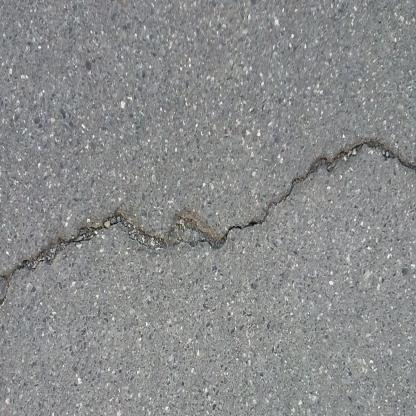Cracks: (0, 140, 416, 333)
